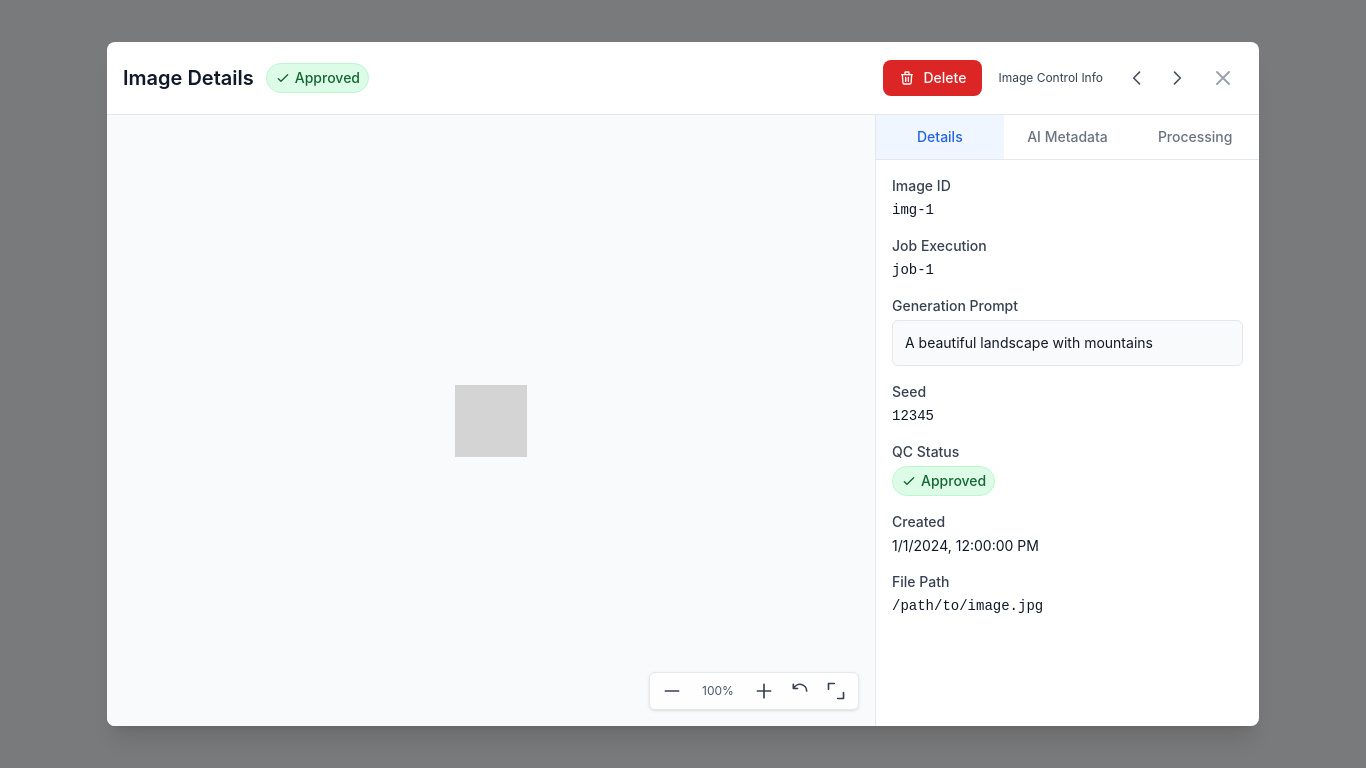
Scenario: ImageModal › displays AI tags correctly
The width and height of the screenshot is (1366, 768).
// Switch to AI Metadata tab
Click the button "AI Metadata" at {"x": 1068, "y": 137}, box top-left (1004, 115), bottom-right (1131, 159)
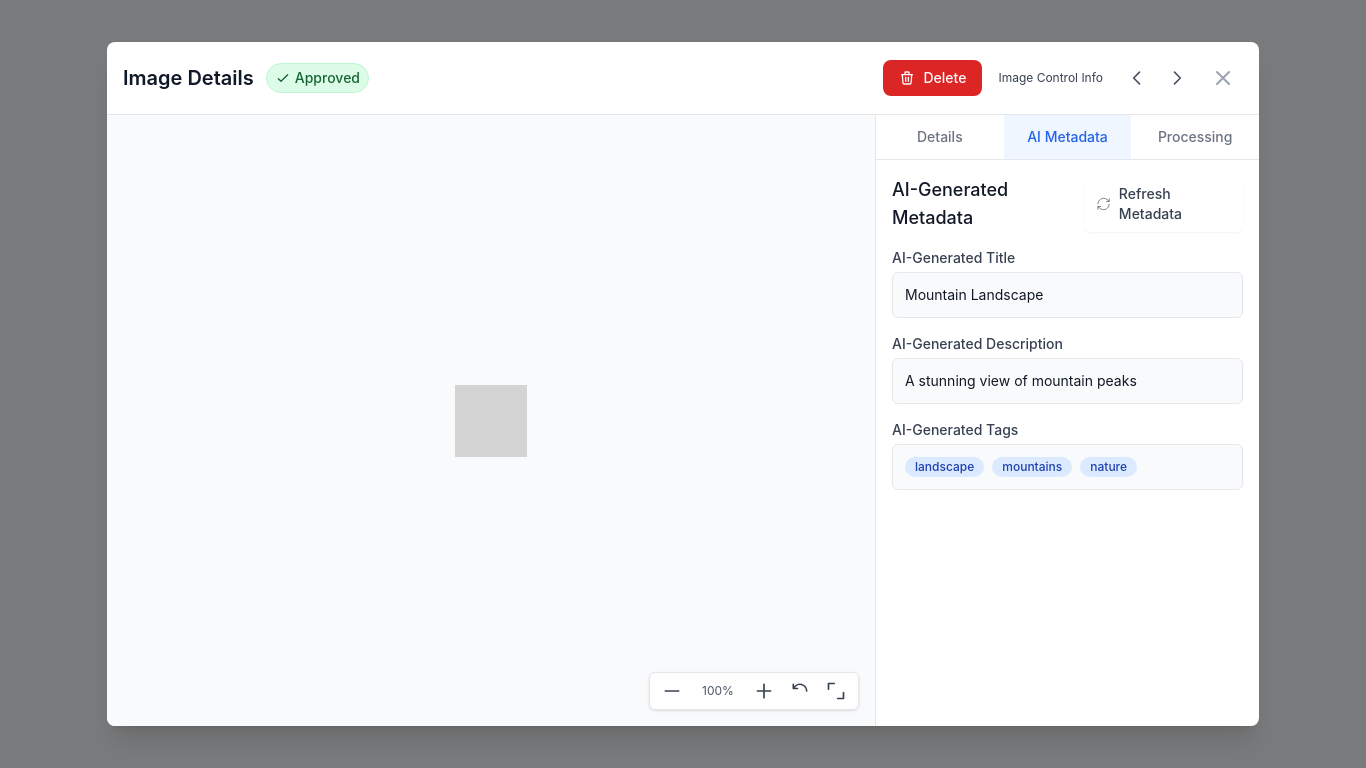
Expected: the text "mountains" is shown, top-left (992, 457), bottom-right (1072, 477)
Expected: the text "landscape" is shown, top-left (905, 457), bottom-right (984, 477)
Expected: the text "nature" is shown, top-left (1080, 457), bottom-right (1137, 477)
